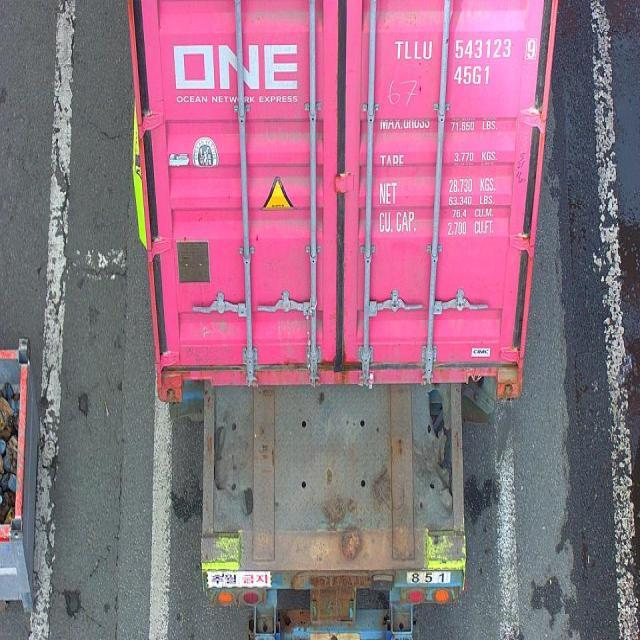ISO: (455, 66, 493, 86)
container_number: (394, 39, 534, 63)
